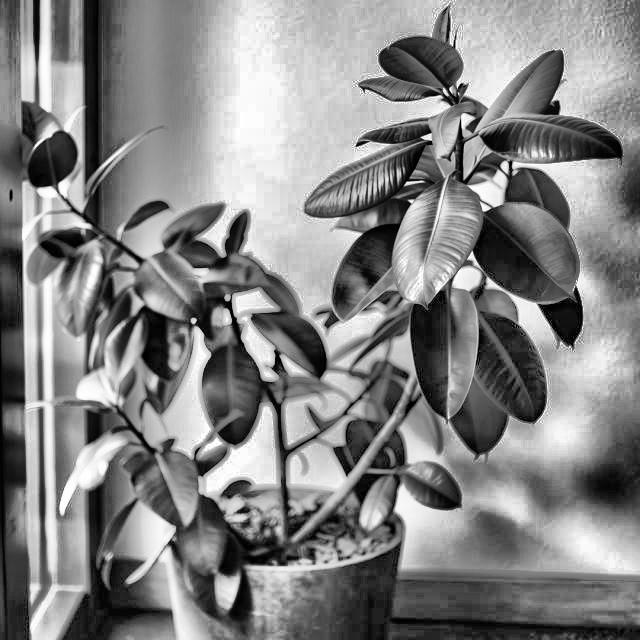plants: (39, 99, 558, 593)
